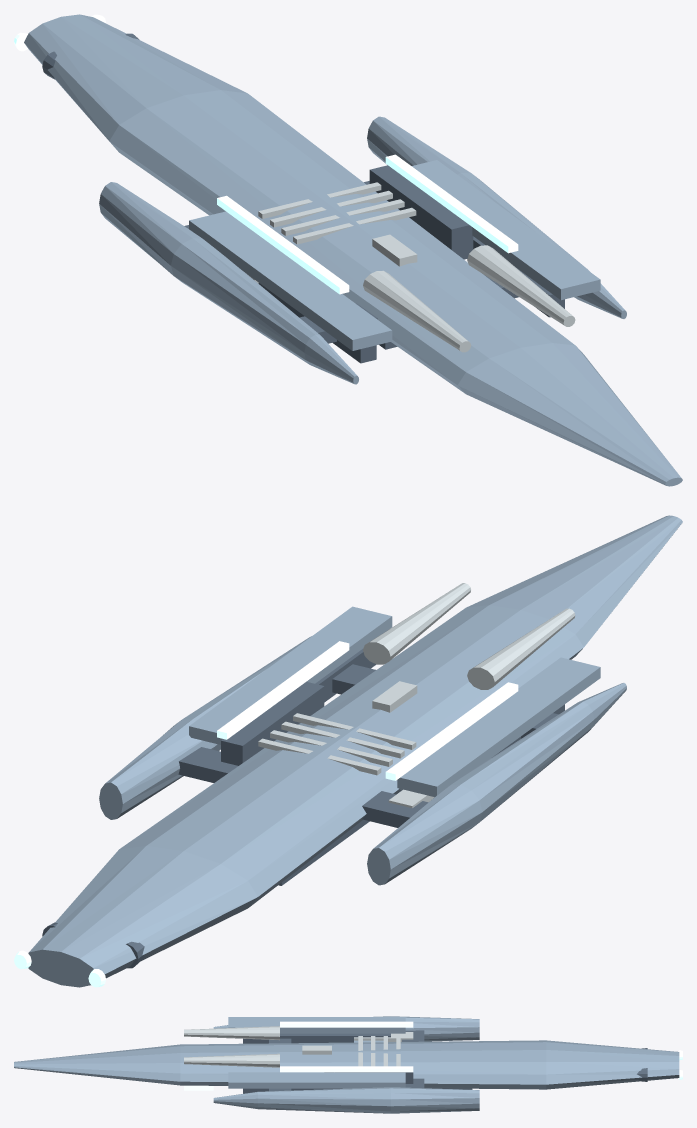
3 views of the same model, one above another, from view 1: azimuth 30°, elevation 25°; view 2: azimuth 150°, elevation 25°; view 3: azimuth 270°, elevation 25° (orthographic). The views are drawn at different scales.
Size of the model in its own units: 5.65 by 1.63 by 19.37.
